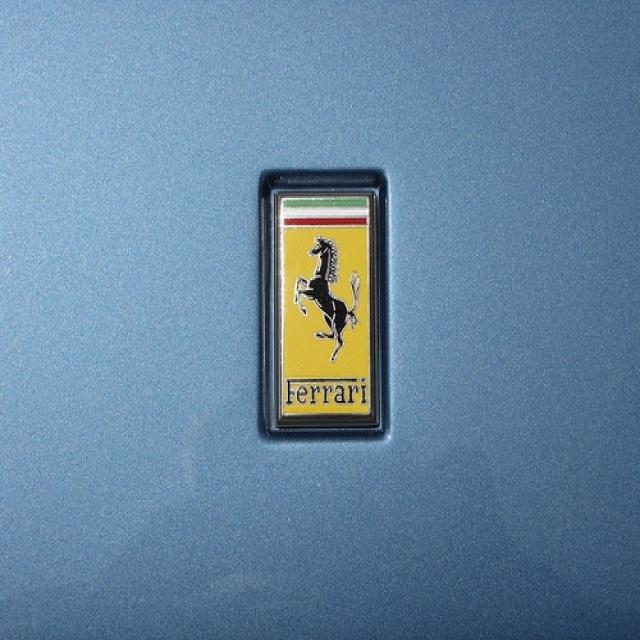ferrari: (278, 196, 376, 418)
